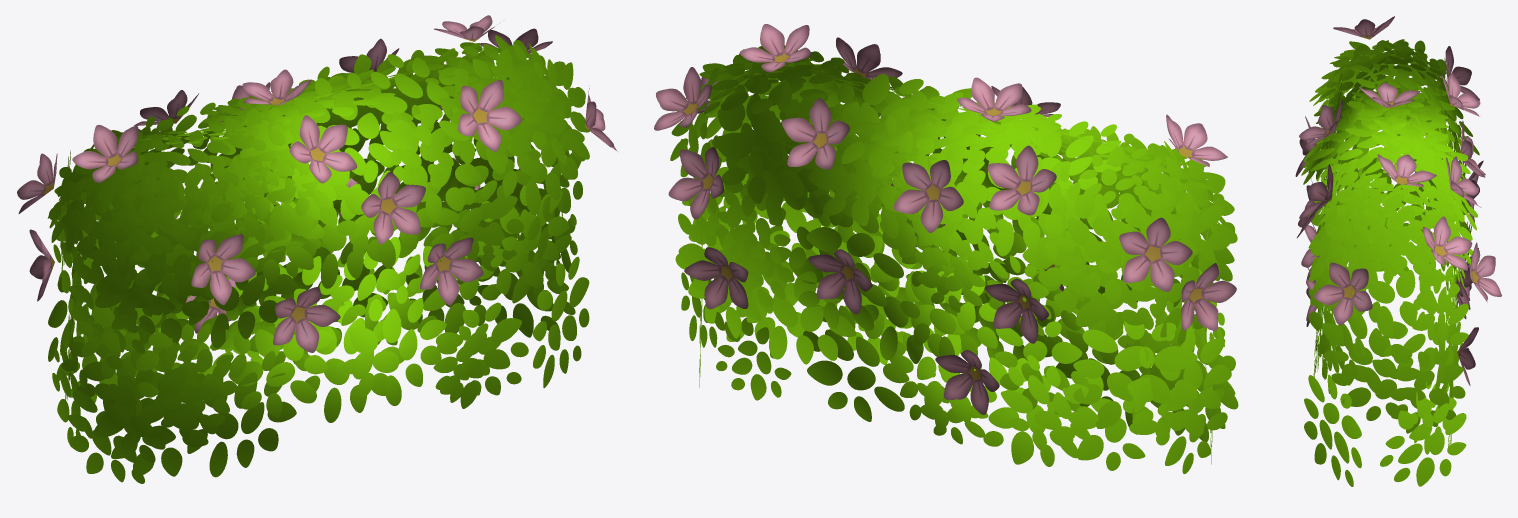
Rendered from bush_large_flowers.gltf.
The picture shows the model from 3 angles, left to right: view 1: azimuth 30°, elevation 25°; view 2: azimuth 150°, elevation 25°; view 3: azimuth 270°, elevation 25°; orthographic projection. The views are drawn at different scales.
Parts seen in each view (by area): view 1: Bush_Large_Flowers; view 2: Bush_Large_Flowers; view 3: Bush_Large_Flowers.
Part boxes in pixels (x1,y1,x2,y2): Bush_Large_Flowers: (17, 15, 617, 483); Bush_Large_Flowers: (654, 24, 1238, 473); Bush_Large_Flowers: (1295, 16, 1501, 486).
Bounding box in the file's own units: 1.93 × 1.26 × 0.7617.
Materials: 2 (2 with a texture image).
